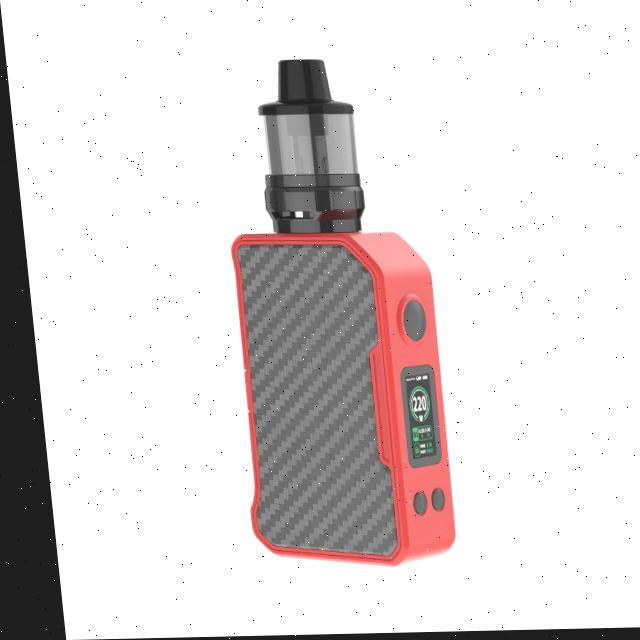vape: (201, 55, 449, 570)
